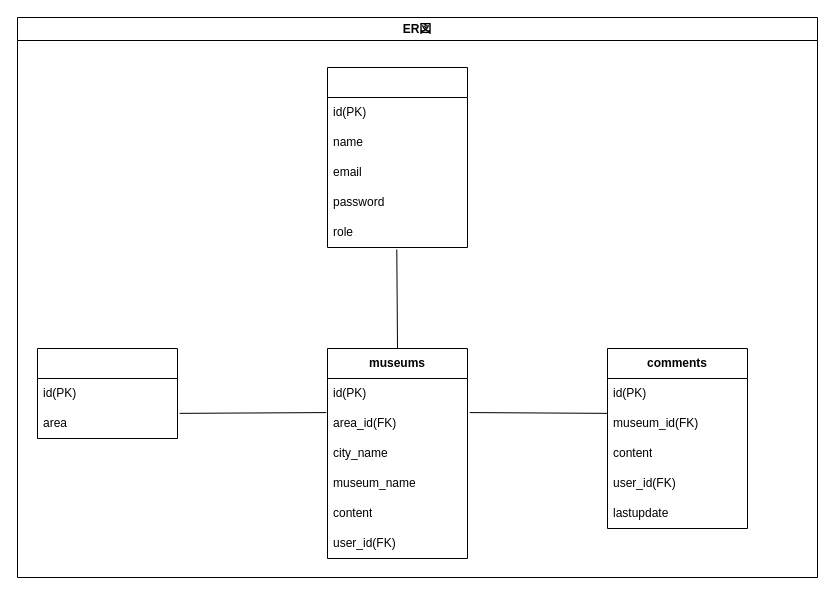
This 835x595 diagram has some shape labels left out. Here are the shapes that lost their labels. From the top down, the box of each, then its label:
(326, 66, 468, 248): users
(36, 348, 178, 438): areas
